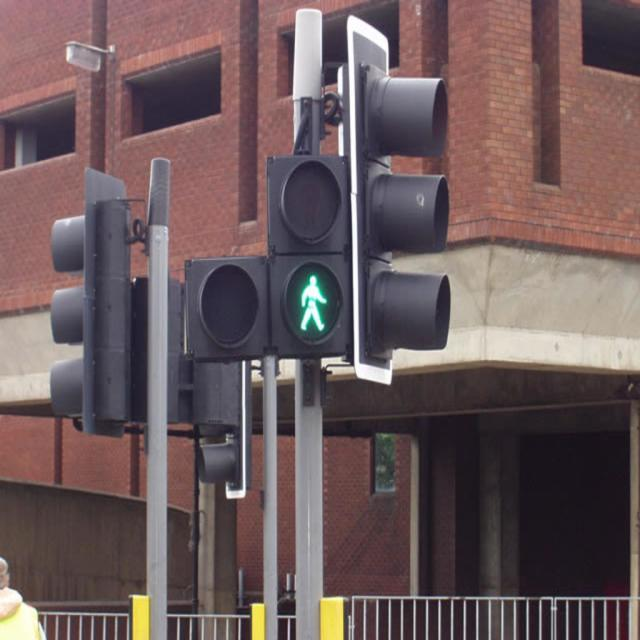off traffic light: (347, 15, 450, 385), (49, 168, 129, 437)
traffic light: (184, 153, 346, 360)
